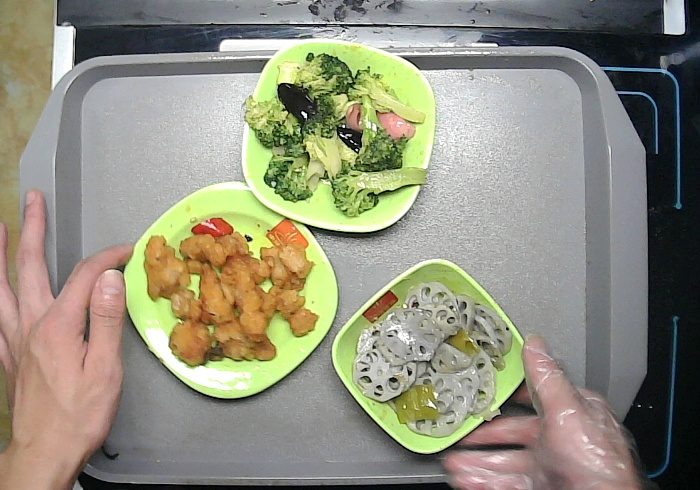SHKJ-Lv_Se_Cai_Die: (238, 34, 439, 238)
SHKJ-Lv_Se_Si_Fang_Cai_Die: (116, 179, 340, 405)
SHKJ-Lv_Se_Xiao_Fang_Die: (327, 257, 537, 460)
